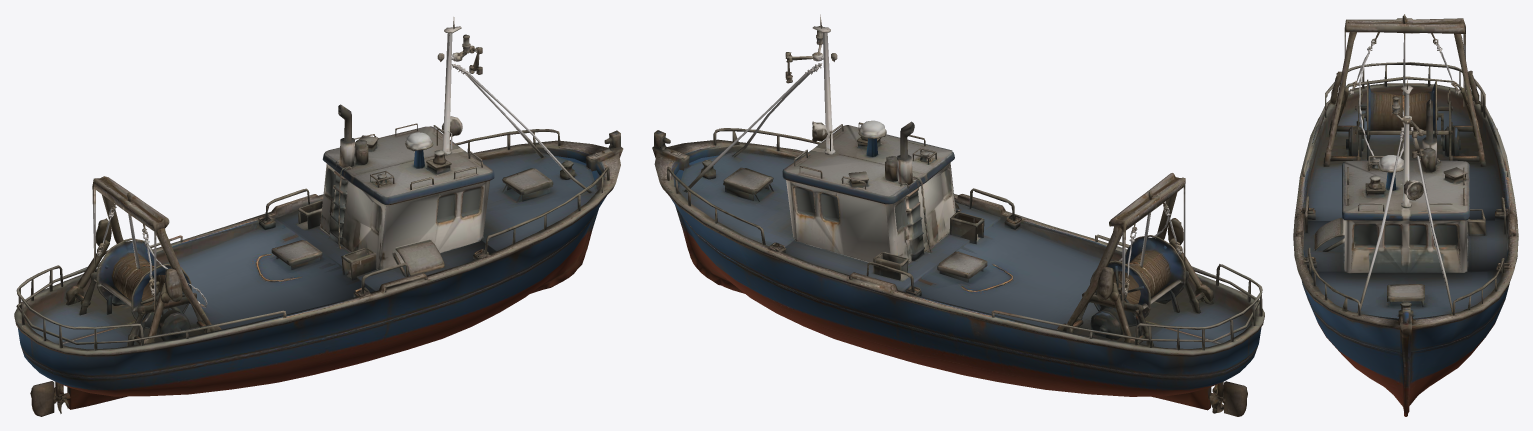
Rendered from trawler.glb.
The picture shows the model from 3 angles, left to right: view 1: azimuth 30°, elevation 25°; view 2: azimuth 150°, elevation 25°; view 3: azimuth 270°, elevation 25°; orthographic projection.
Visible parts, largest first — view 1: tripo_node_a9fd4133-2171-4492-86a9-b8b52e22de10; view 2: tripo_node_a9fd4133-2171-4492-86a9-b8b52e22de10; view 3: tripo_node_a9fd4133-2171-4492-86a9-b8b52e22de10.
Part boxes in pixels (x1=…): tripo_node_a9fd4133-2171-4492-86a9-b8b52e22de10: x1=14, y1=17, x2=623, y2=416; tripo_node_a9fd4133-2171-4492-86a9-b8b52e22de10: x1=652, y1=14, x2=1264, y2=416; tripo_node_a9fd4133-2171-4492-86a9-b8b52e22de10: x1=1293, y1=14, x2=1518, y2=416.
Size of the model in its own units: 0.998 by 0.4863 by 0.334.
Materials: 1 (1 with a texture image).
